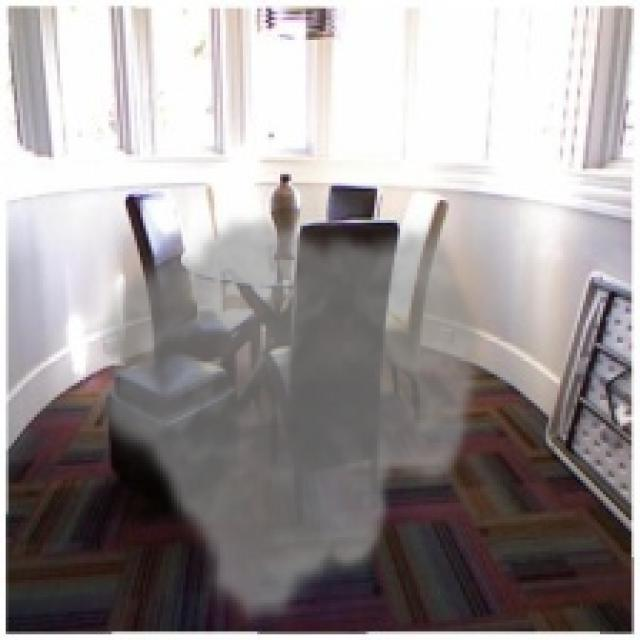smoke: (86, 212, 488, 632)
